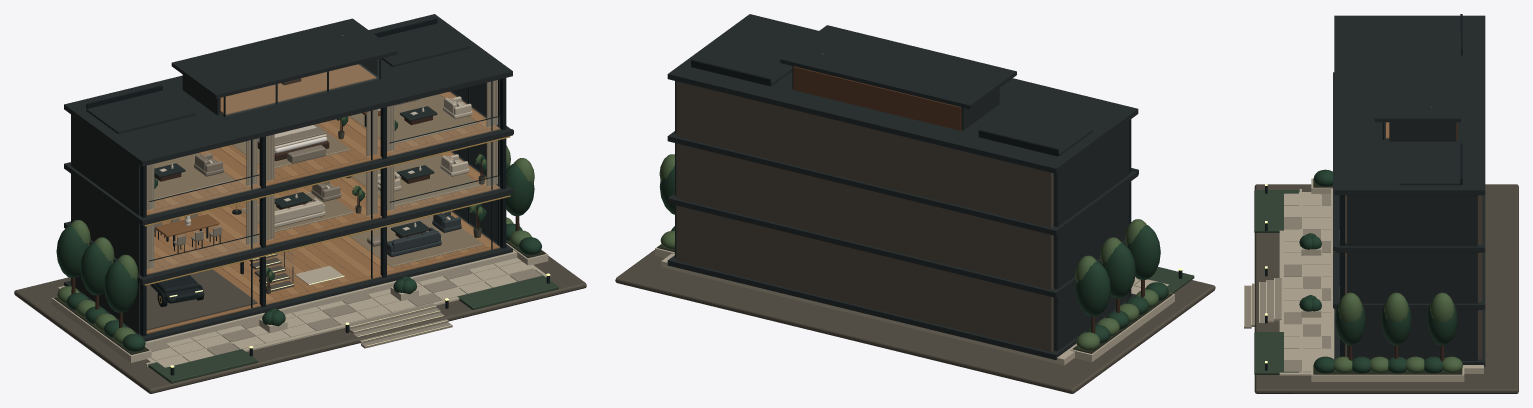
File: heseos-home.glb
3 renders of one model, left to right at view 1: azimuth 30°, elevation 25°; view 2: azimuth 150°, elevation 25°; view 3: azimuth 270°, elevation 25°, orthographic. The views are drawn at different scales.
Parts seen in each view (by area): view 1: 01-architectural-shell-charcoal-architecture, landscape-light-limestone, landscape-dark-travertine, 01-architectural-shell-graphite-metal, 01-architectural-shell-oak-floor, landscape-leaf-dark, landscape-warm-stone, landscape-grass, garage-dark-travertine, roof-pavilion-oak-floor, 01-architectural-shell-light-limestone, landscape-leaf-light (+38 smaller); view 2: 01-architectural-shell-dark-travertine, 01-architectural-shell-charcoal-architecture, landscape-dark-travertine, landscape-leaf-dark, 01-architectural-shell-walnut, landscape-leaf-light, 01-architectural-shell-light-limestone, 01-architectural-shell-graphite-metal, landscape-light-limestone, landscape-grass; view 3: 01-architectural-shell-charcoal-architecture, landscape-dark-travertine, landscape-light-limestone, landscape-leaf-dark, landscape-warm-stone, landscape-leaf-light, landscape-grass, 01-architectural-shell-graphite-metal, 01-architectural-shell-dark-travertine, 01-architectural-shell-light-limestone, landscape-soil.
Boxes of the visible parts, <box> form: 01-architectural-shell-charcoal-architecture: <box>64,14,513,341</box>; landscape-light-limestone: <box>51,243,548,367</box>; landscape-dark-travertine: <box>14,256,586,393</box>; 01-architectural-shell-graphite-metal: <box>86,18,506,336</box>; 01-architectural-shell-oak-floor: <box>146,91,499,333</box>; landscape-leaf-dark: <box>56,163,541,351</box>; landscape-warm-stone: <box>148,268,542,355</box>; landscape-grass: <box>148,270,558,383</box>; garage-dark-travertine: <box>146,269,257,330</box>; roof-pavilion-oak-floor: <box>220,64,376,114</box>; 01-architectural-shell-light-limestone: <box>58,250,517,347</box>; landscape-leaf-light: <box>57,145,534,344</box>; 01-architectural-shell-dark-travertine: <box>676,81,1053,351</box>; 01-architectural-shell-charcoal-architecture: <box>667,14,1138,359</box>; landscape-dark-travertine: <box>615,250,1215,393</box>; landscape-leaf-dark: <box>659,165,1168,343</box>; 01-architectural-shell-walnut: <box>793,66,961,130</box>; landscape-leaf-light: <box>659,154,1158,350</box>; 01-architectural-shell-light-limestone: <box>661,253,1076,365</box>; 01-architectural-shell-graphite-metal: <box>691,59,1131,297</box>; landscape-light-limestone: <box>655,244,1174,362</box>; landscape-grass: <box>1135,267,1194,293</box>; 01-architectural-shell-charcoal-architecture: <box>1333,15,1485,366</box>; landscape-dark-travertine: <box>1254,184,1518,393</box>; landscape-light-limestone: <box>1279,178,1464,381</box>; landscape-leaf-dark: <box>1299,169,1457,373</box>; landscape-warm-stone: <box>1244,194,1330,372</box>; landscape-leaf-light: <box>1334,292,1462,373</box>; landscape-grass: <box>1254,190,1299,374</box>; 01-architectural-shell-graphite-metal: <box>1337,14,1482,356</box>; 01-architectural-shell-dark-travertine: <box>1478,195,1482,359</box>; 01-architectural-shell-light-limestone: <box>1331,189,1483,373</box>; landscape-soil: <box>1313,179,1462,374</box>.
Size of the model in its own units: 25.5 by 12.47 by 14.36.
